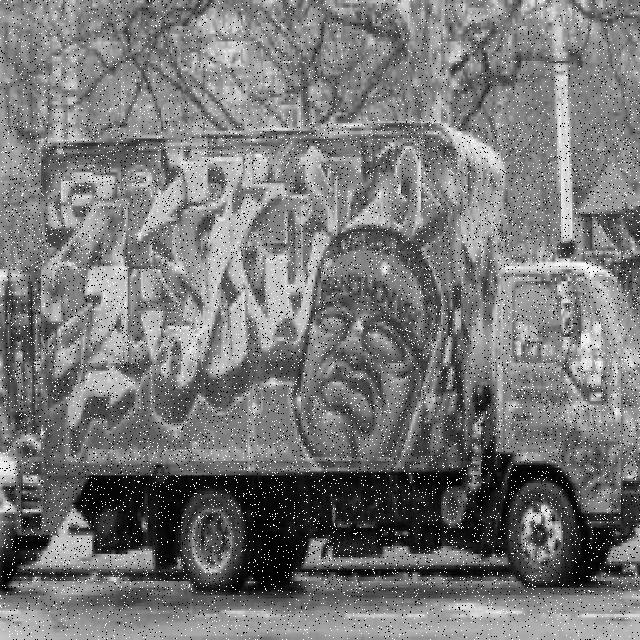Box Truck: (3, 123, 640, 593)
